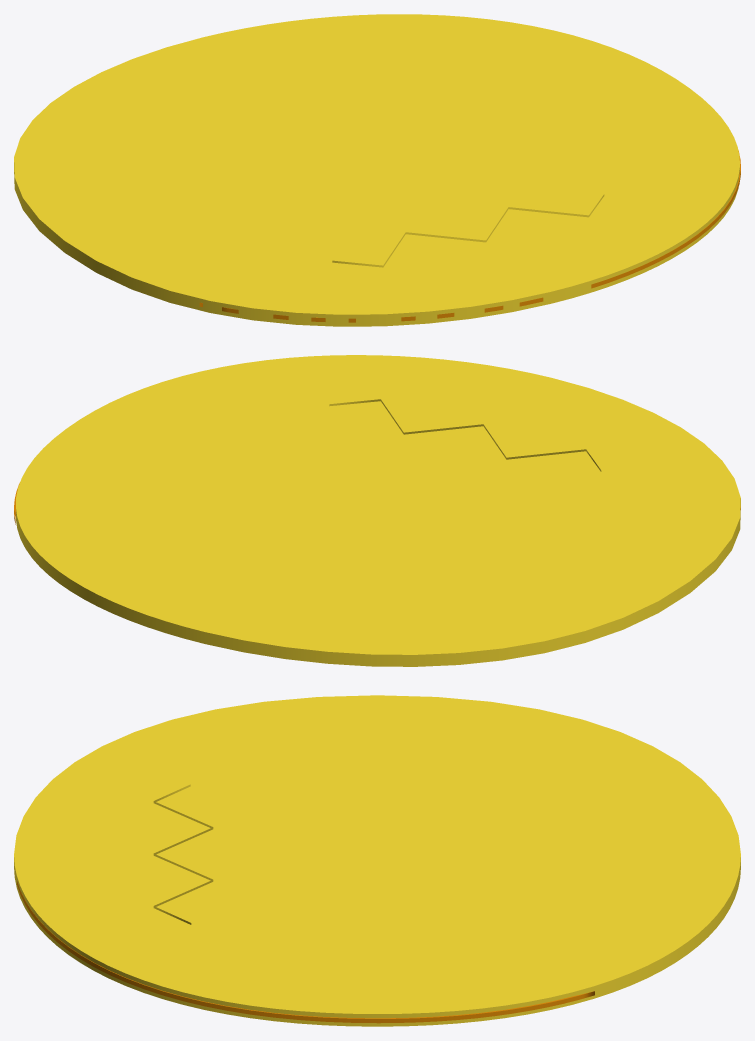
The model's file is emoji_u1f616.glb.
3 renders of one model, top to bottom at view 1: azimuth 30°, elevation 25°; view 2: azimuth 150°, elevation 25°; view 3: azimuth 270°, elevation 25°, orthographic. The views are drawn at different scales.
Visible parts, largest first — view 1: emoji_u1f616; view 2: emoji_u1f616; view 3: emoji_u1f616.
Part boxes in pixels (bbox=[...]): emoji_u1f616: bbox=[14, 14, 740, 326]; emoji_u1f616: bbox=[14, 355, 740, 666]; emoji_u1f616: bbox=[14, 695, 740, 1026].
Bounding box in the file's own units: 0.0327 × 0.0008 × 0.0315.
